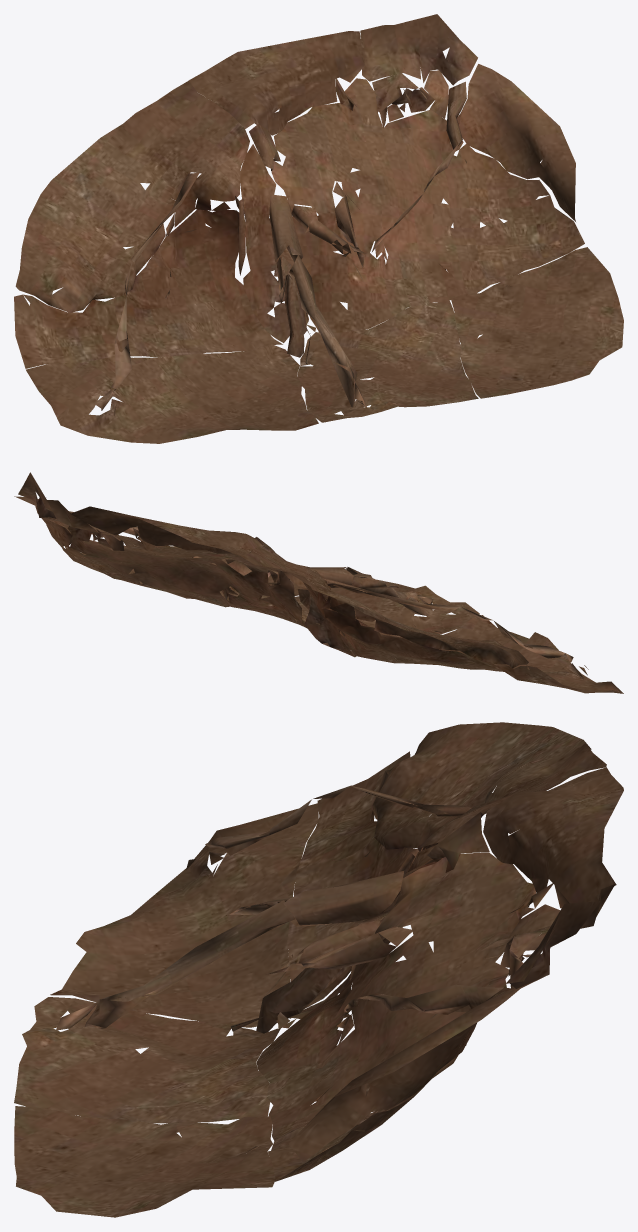
The model's file is root_cluster_01.glb.
3 views of the same model, one above another, from view 1: azimuth 30°, elevation 25°; view 2: azimuth 150°, elevation 25°; view 3: azimuth 270°, elevation 25° (orthographic). The views are drawn at different scales.
Parts seen in each view (by area): view 1: root_cluster_01; view 2: root_cluster_01; view 3: root_cluster_01.
Boxes of the visible parts, x1=… form: root_cluster_01: x1=14, y1=14, x2=623, y2=443; root_cluster_01: x1=14, y1=472, x2=623, y2=693; root_cluster_01: x1=14, y1=722, x2=623, y2=1217.
Size of the model in its own units: 4.13 by 1.52 by 2.67.
Materials: 1 (1 with a texture image).
